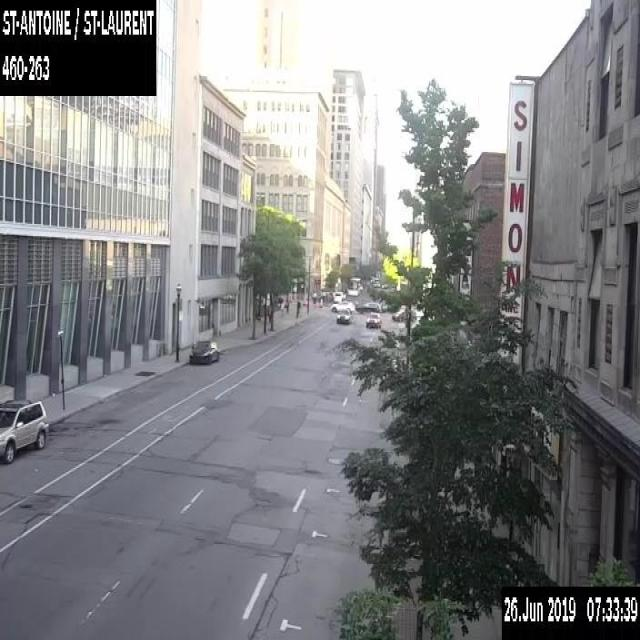bus: (346, 276, 361, 295)
pedestrian: (267, 306, 271, 322), (284, 299, 288, 313), (296, 299, 300, 312)
vehicle: (0, 397, 48, 464), (188, 338, 219, 362), (391, 306, 416, 321), (355, 301, 380, 313), (330, 299, 353, 312), (365, 311, 381, 328), (336, 306, 351, 323), (333, 290, 342, 301)
